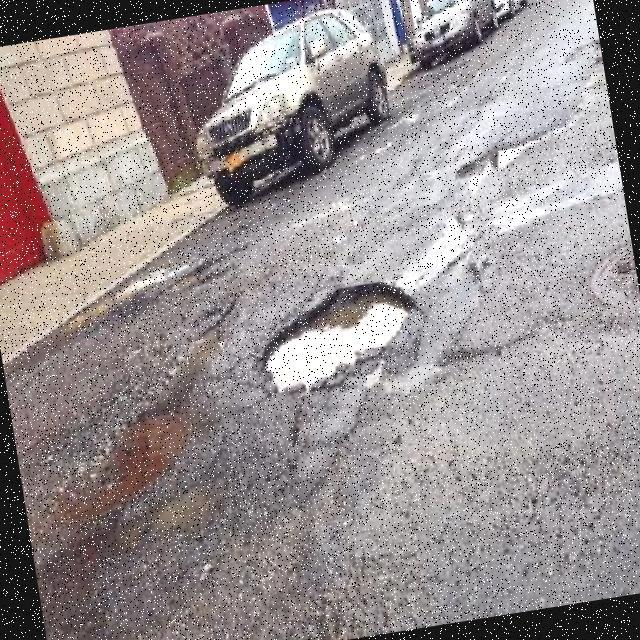Pothole: (262, 283, 417, 391), (457, 133, 548, 177)
